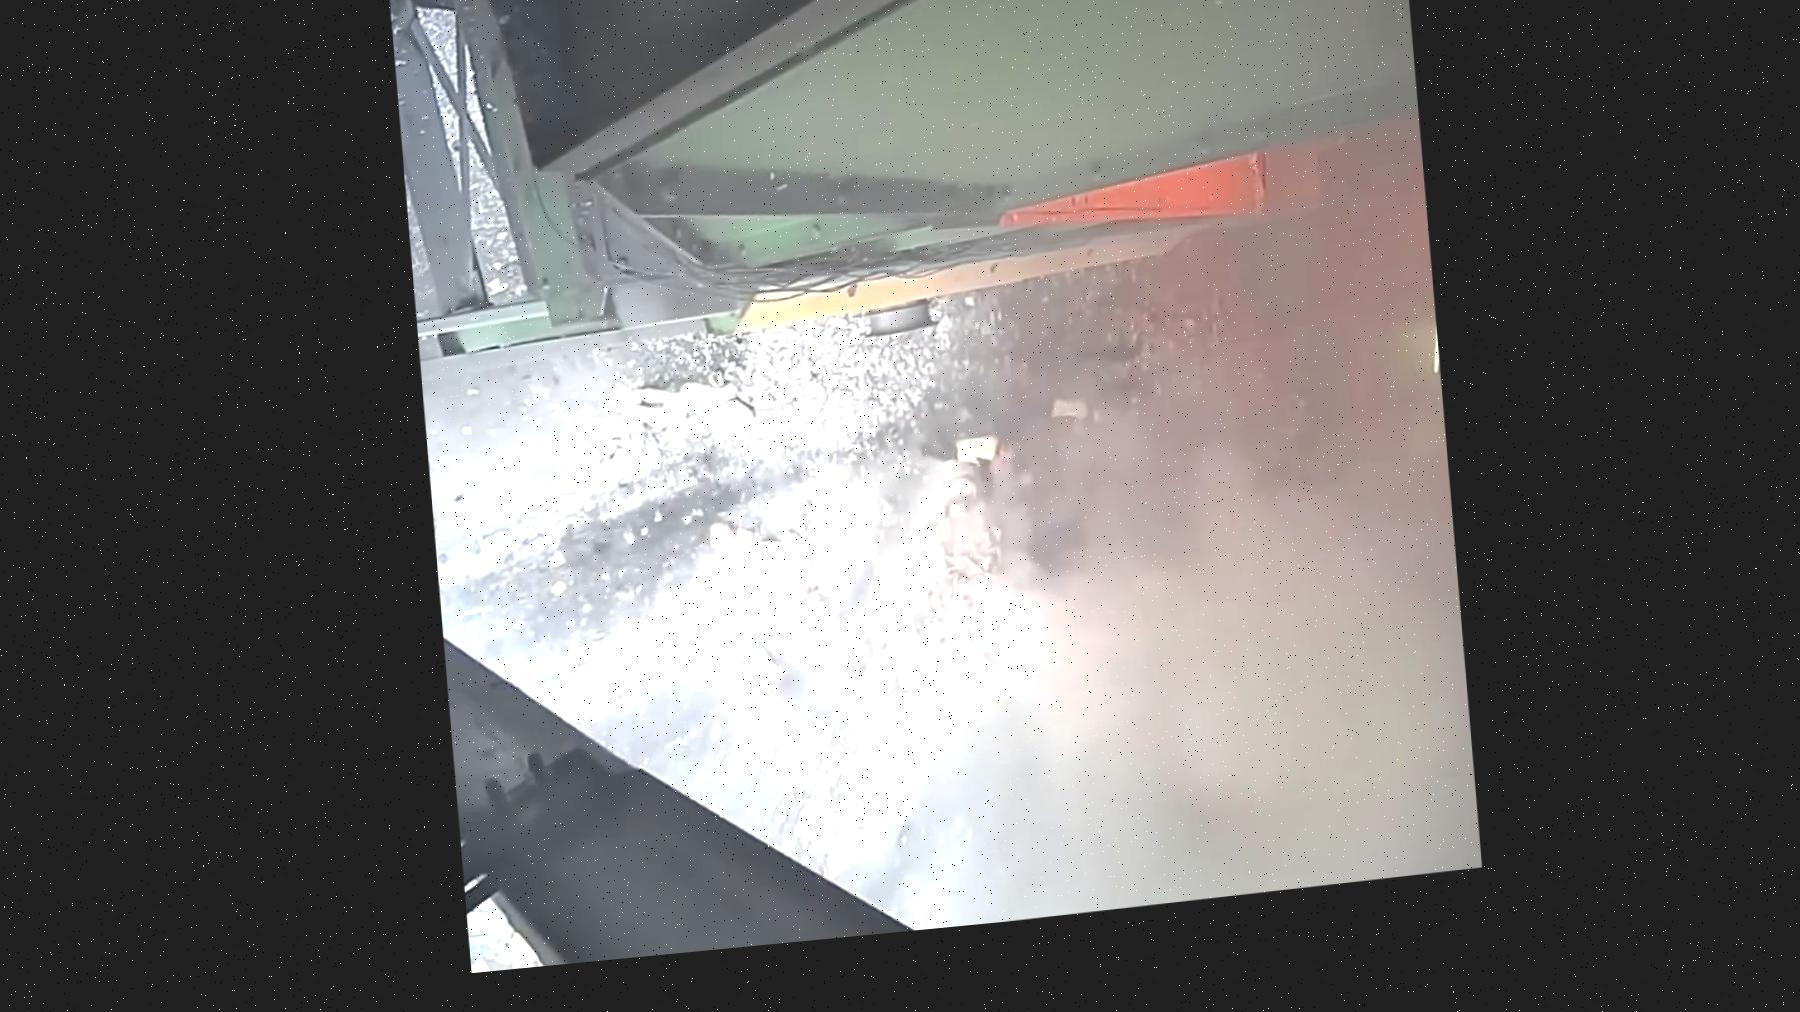smoke: (635, 318, 1385, 911)
